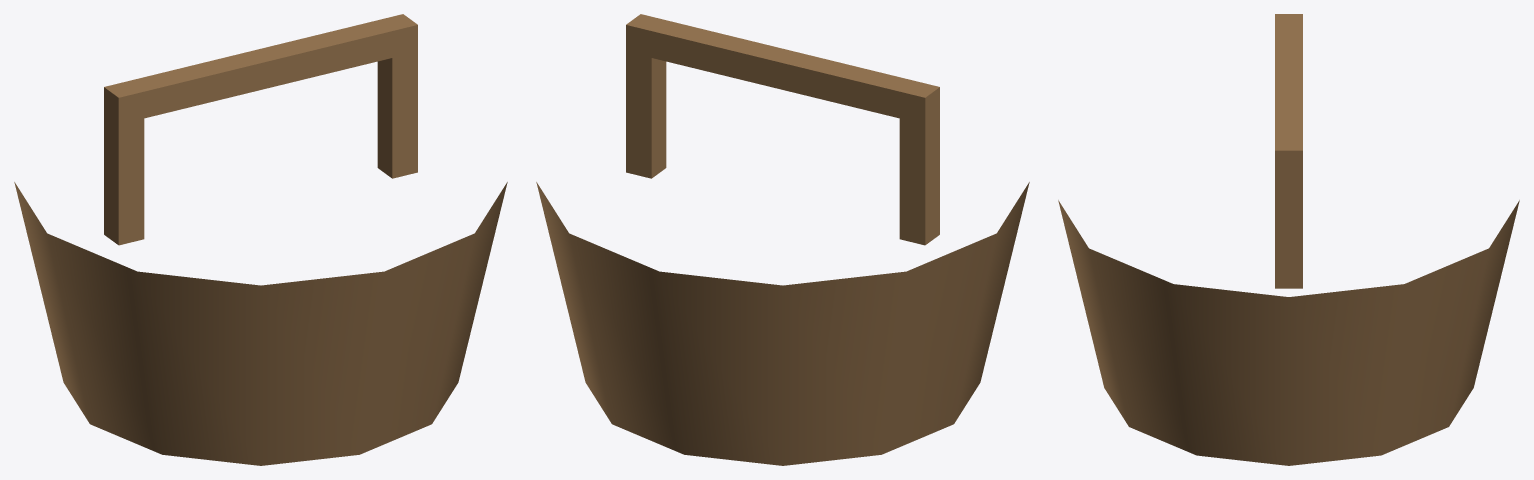
3 renders of one model, left to right at view 1: azimuth 30°, elevation 25°; view 2: azimuth 150°, elevation 25°; view 3: azimuth 270°, elevation 25°, orthographic. The views are drawn at different scales.
Visible parts, largest first — view 1: herb-basket-a@1.0.0; view 2: herb-basket-a@1.0.0; view 3: herb-basket-a@1.0.0.
Boxes of the visible parts, x1,y1,x2,y2 form: herb-basket-a@1.0.0: [14, 14, 507, 465]; herb-basket-a@1.0.0: [536, 14, 1029, 465]; herb-basket-a@1.0.0: [1058, 14, 1519, 465].
Size of the model in its own units: 1 by 0.73 by 1.
